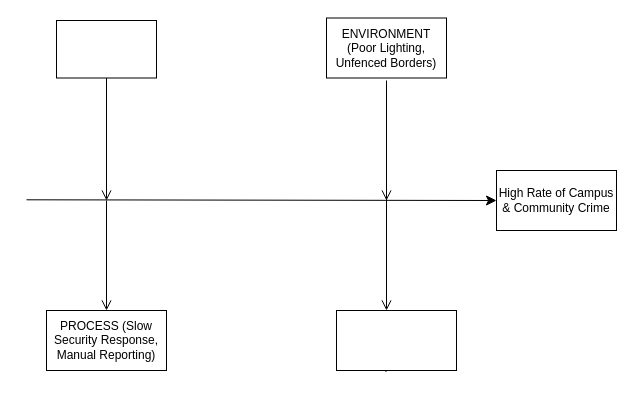
Some shapes in this 634 by 398 pixel diagram are drawn without their labels. Each missing label, with the centre of its shape:
PEOPLE (Cultism, DRUG ABUSE): (x=106, y=49)
TECHNOLOGY (No Central Reporting App): (x=396, y=340)
